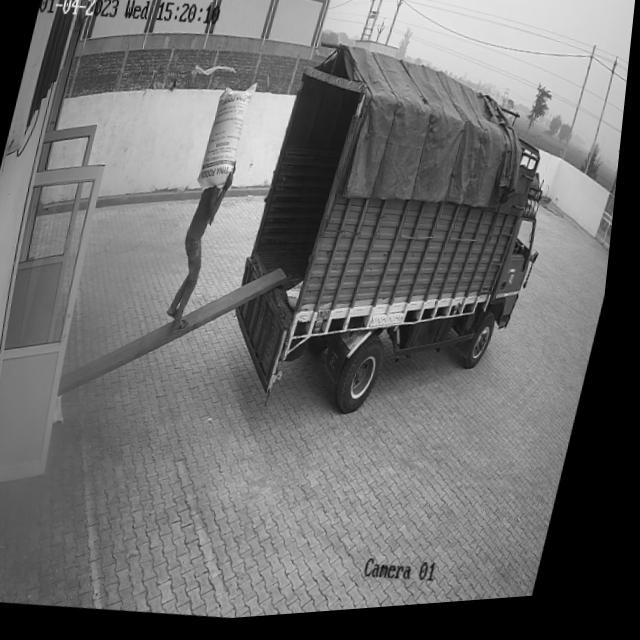sack: (199, 81, 261, 198)
